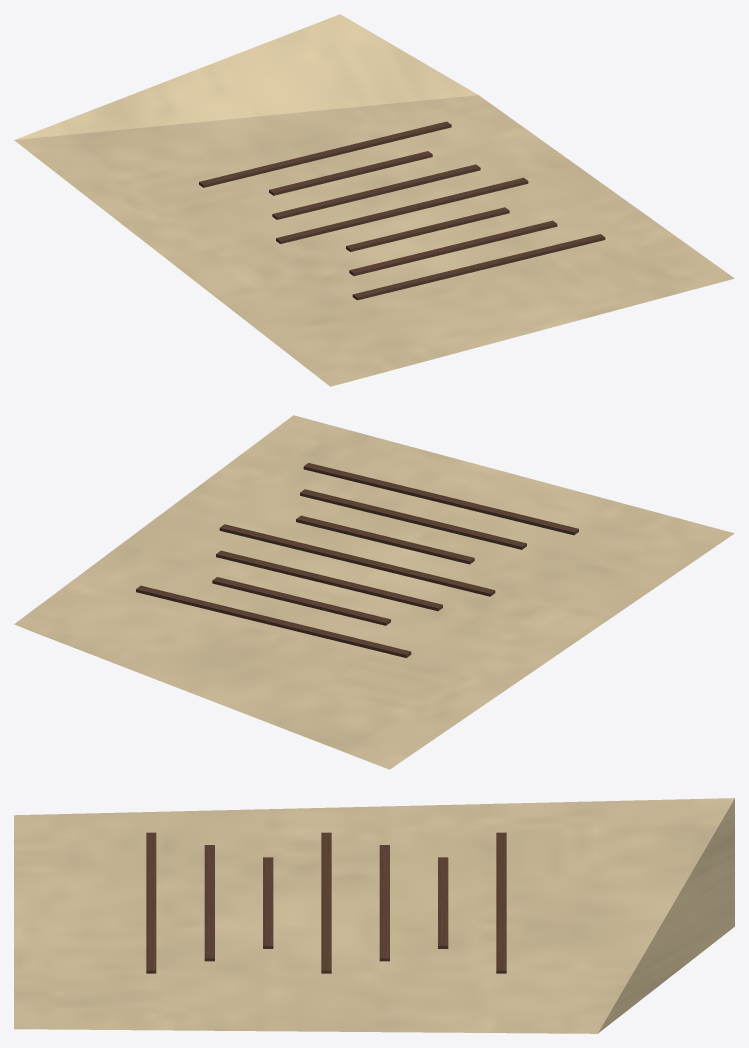
The model's file is LostPage.glb.
3 views of the same model, one above another, from view 1: azimuth 30°, elevation 25°; view 2: azimuth 150°, elevation 25°; view 3: azimuth 270°, elevation 25° (orthographic). The views are drawn at different scales.
Visible parts, largest first — view 1: Page, Ink, Ink.006, Ink.003, Ink.004, Ink.001, Ink.002, Ink.005; view 2: Page, Ink.003, Ink, Ink.006, Ink.004, Ink.001, Ink.005, Ink.002; view 3: Page, Ink.003, Ink.006, Ink, Ink.001, Ink.004, Ink.002, Ink.005.
Boxes of the visible parts, x1,y1,x2,y2 form: Page: [14, 14, 734, 386]; Ink: [352, 234, 605, 300]; Ink.006: [199, 121, 451, 187]; Ink.003: [276, 177, 528, 243]; Ink.004: [272, 164, 480, 219]; Ink.001: [349, 220, 557, 275]; Ink.002: [346, 207, 509, 251]; Ink.005: [269, 151, 432, 195]; Page: [14, 415, 734, 769]; Ink.003: [219, 524, 495, 596]; Ink: [303, 463, 578, 535]; Ink.006: [136, 585, 411, 657]; Ink.004: [216, 550, 442, 611]; Ink.001: [300, 489, 526, 549]; Ink.005: [212, 577, 390, 625]; Ink.002: [296, 515, 474, 564]; Page: [14, 798, 734, 1033]; Ink.003: [321, 832, 331, 973]; Ink.006: [496, 832, 506, 973]; Ink: [146, 832, 156, 973]; Ink.001: [204, 845, 214, 961]; Ink.004: [379, 845, 389, 961]; Ink.002: [263, 857, 273, 948]; Ink.005: [438, 857, 448, 948].
Bounding box in the file's own units: 0.31 × 0.045 × 0.42.
Materials: 2 (2 with a texture image).
